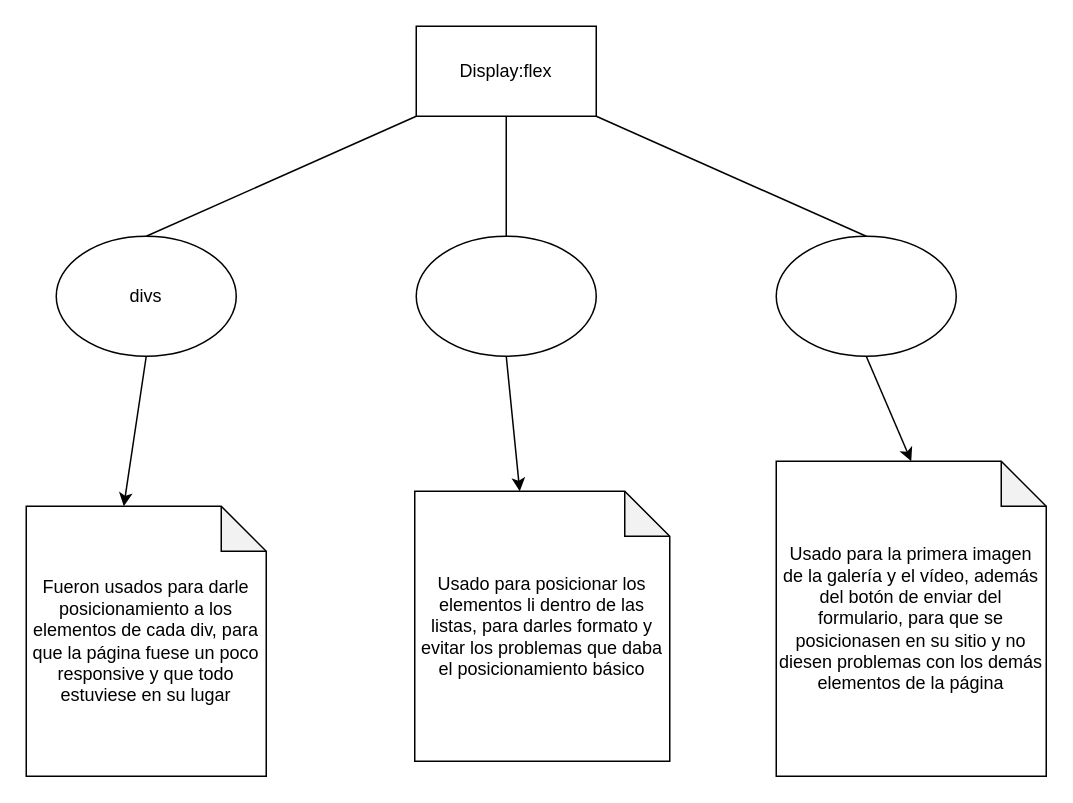
This 1073x803 diagram has some shape labels left out. Each missing label, with the box of its shape:
Imágenes y vídeos: (775, 235, 956, 356)
listas: (415, 235, 596, 356)
